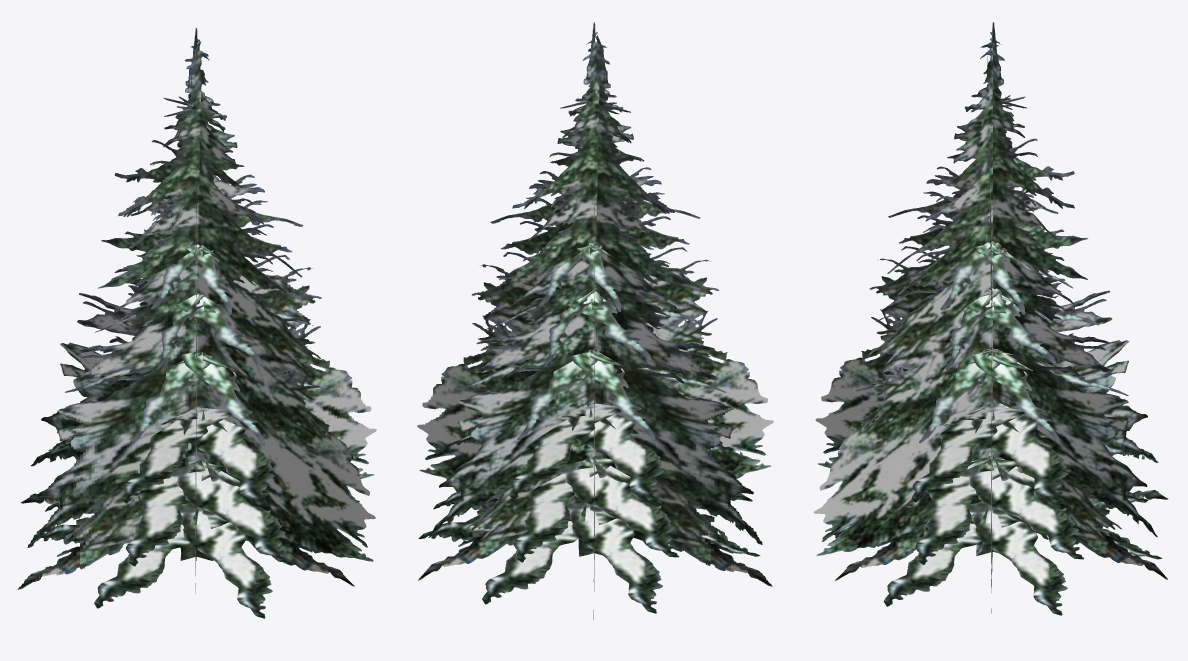
Rendered from snowy_tree.dae.
3 renders of one model, left to right at view 1: azimuth 30°, elevation 25°; view 2: azimuth 150°, elevation 25°; view 3: azimuth 270°, elevation 25°, orthographic.
Visible parts, largest first — view 1: SnowyTree; view 2: SnowyTree; view 3: SnowyTree.
Boxes of the visible parts, bbox=[...] form: SnowyTree: bbox=[17, 28, 376, 618]; SnowyTree: bbox=[417, 22, 773, 619]; SnowyTree: bbox=[814, 22, 1168, 615].
Size of the model in its own units: 141 by 123 by 201.
Materials: 9 (9 with a texture image).
